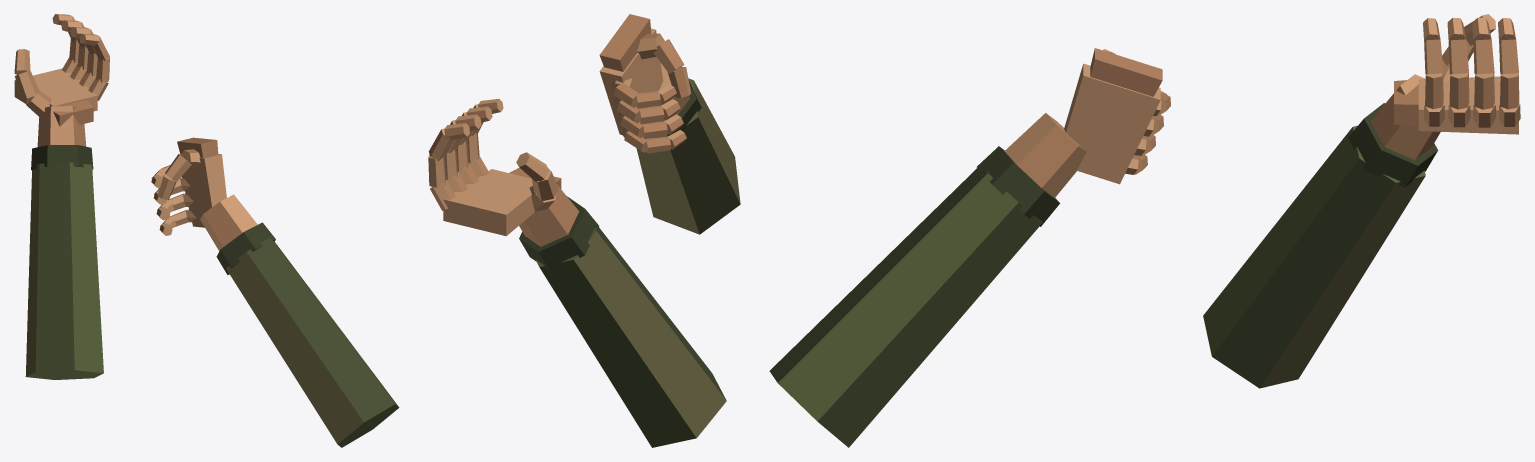
The model's file is maos_ak47.glb.
The picture shows the model from 3 angles, left to right: view 1: azimuth 30°, elevation 25°; view 2: azimuth 150°, elevation 25°; view 3: azimuth 270°, elevation 25°; orthographic projection. The views are drawn at different scales.
Parts seen in each view (by area): view 1: MaoE, MaoD; view 2: MaoE, MaoD; view 3: MaoD, MaoE.
Part boxes in pixels (x1,y1,x2,y2): MaoE: (14,14,109,379); MaoD: (151,137,399,447); MaoE: (428,99,726,447); MaoD: (599,14,740,234); MaoD: (769,48,1170,447); MaoE: (1203,14,1520,388).
Bounding box in the file's own units: 0.3394 × 0.4462 × 0.7334.
